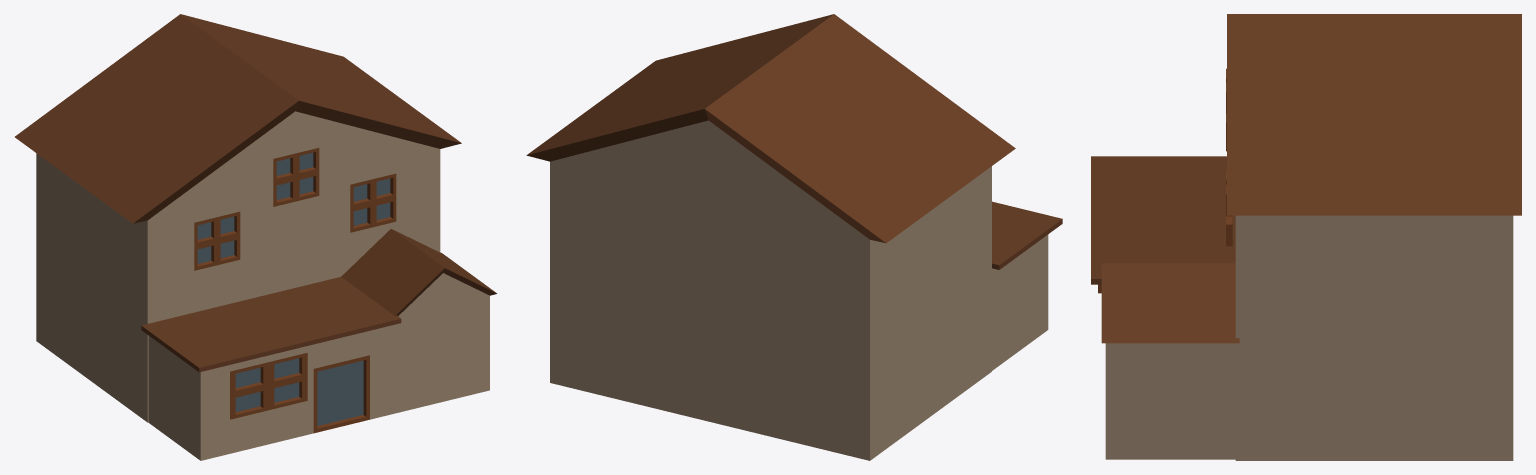
Rendered from casa1.fbx.
3 views of the same model, side by side, from view 1: azimuth 30°, elevation 25°; view 2: azimuth 150°, elevation 25°; view 3: azimuth 270°, elevation 25° (orthographic). The views are drawn at different scales.
Visible parts, largest first — view 1: Cube.001, Cube, Plane.003, Plane, Plane.001, Plane.002; view 2: Cube.001, Cube; view 3: Cube.001, Cube.
Part boxes in pixels (<box>): Cube.001: <box>15,14,461,422</box>; Cube: <box>141,229,497,460</box>; Plane.003: <box>230,352,307,419</box>; Plane: <box>194,211,240,270</box>; Plane.001: <box>350,173,396,232</box>; Plane.002: <box>273,148,319,206</box>; Cube.001: <box>526,14,1015,460</box>; Cube: <box>992,201,1062,370</box>; Cube.001: <box>1227,14,1521,460</box>; Cube: <box>1091,156,1239,459</box>.
Bounding box in the file's own units: 1741 × 1458 × 1585.
